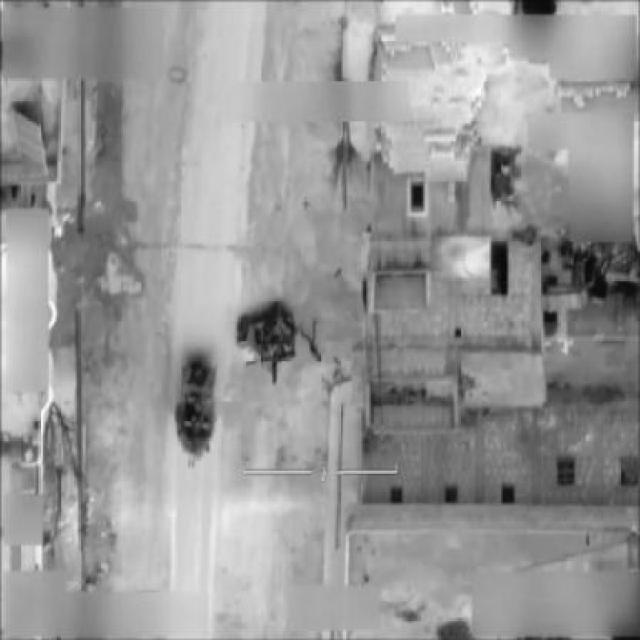Person: (298, 320, 322, 371)
Vehicle: (234, 303, 299, 382), (174, 360, 220, 464)
